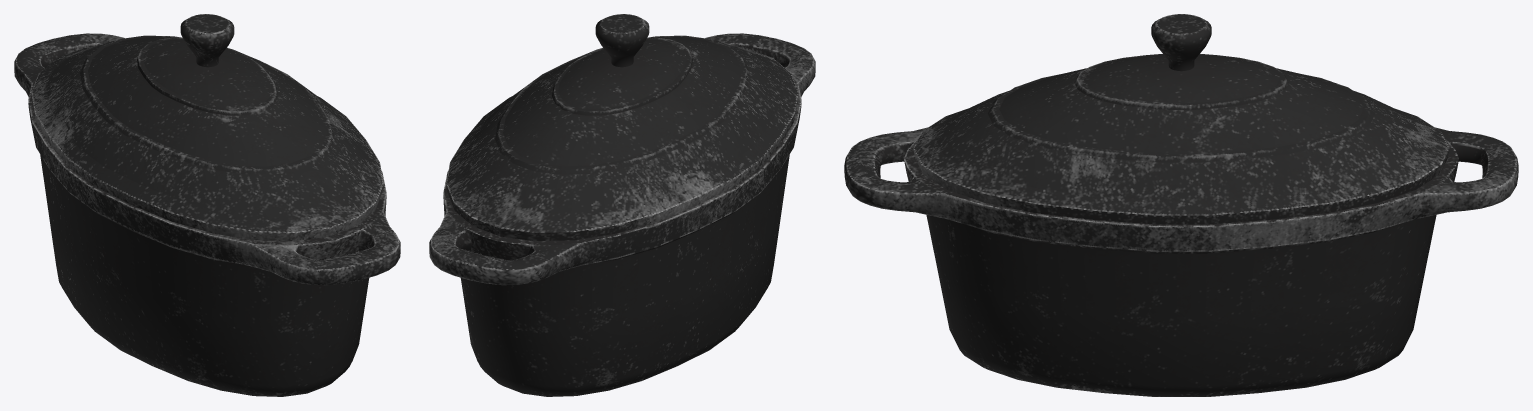
Rendered from pot.glb.
The picture shows the model from 3 angles, left to right: view 1: azimuth 30°, elevation 25°; view 2: azimuth 150°, elevation 25°; view 3: azimuth 270°, elevation 25°; orthographic projection. The views are drawn at different scales.
Visible parts, largest first — view 1: pot; view 2: pot; view 3: pot.
Part boxes in pixels (left/top/right/bottom): pot: left=14, top=14, right=400, bottom=396; pot: left=429, top=14, right=815, bottom=396; pot: left=844, top=14, right=1518, bottom=396.
Size of the model in its own units: 0.4781 by 0.5341 by 1.
1 material, 1 textured.
